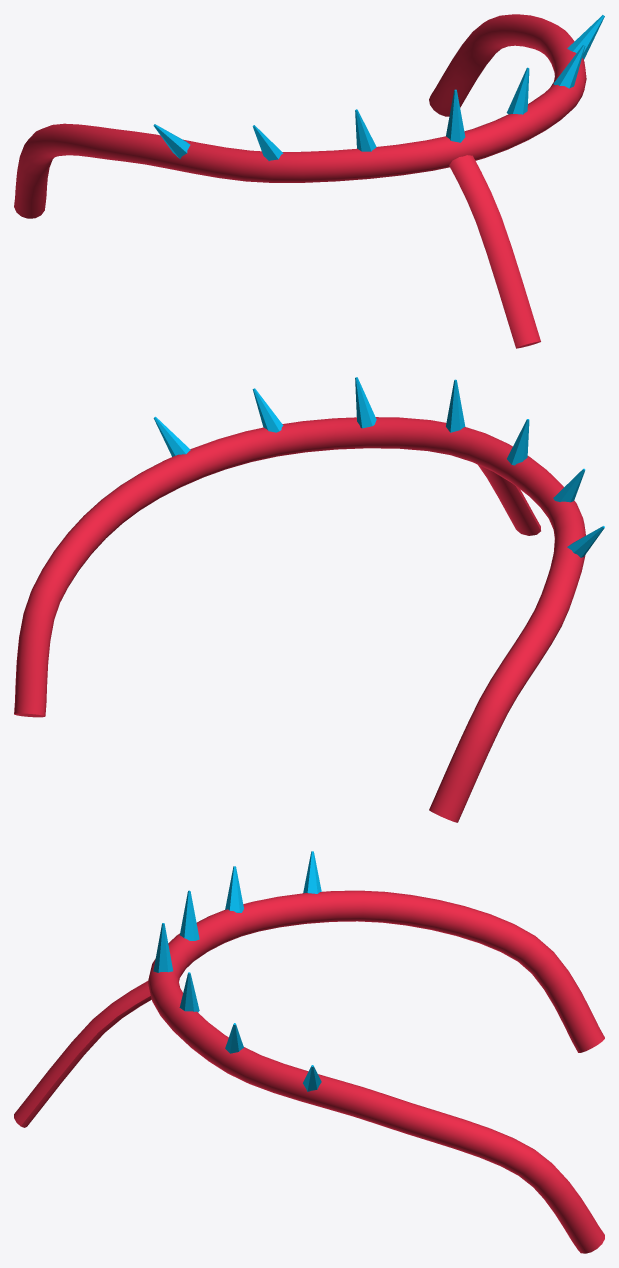
Rendered from crown.glb.
The picture shows the model from 3 angles, top to bottom: view 1: azimuth 30°, elevation 25°; view 2: azimuth 150°, elevation 25°; view 3: azimuth 270°, elevation 25°; orthographic projection. The views are drawn at different scales.
Visible parts, largest first — view 1: Halo_crown; view 2: Halo_crown; view 3: Halo_crown.
Part boxes in pixels (x1,y1,x2,y2): Halo_crown: (14, 14, 604, 348); Halo_crown: (14, 377, 604, 822); Halo_crown: (14, 851, 604, 1253).
Size of the model in its own units: 0.8287 by 0.387 by 0.9109.
